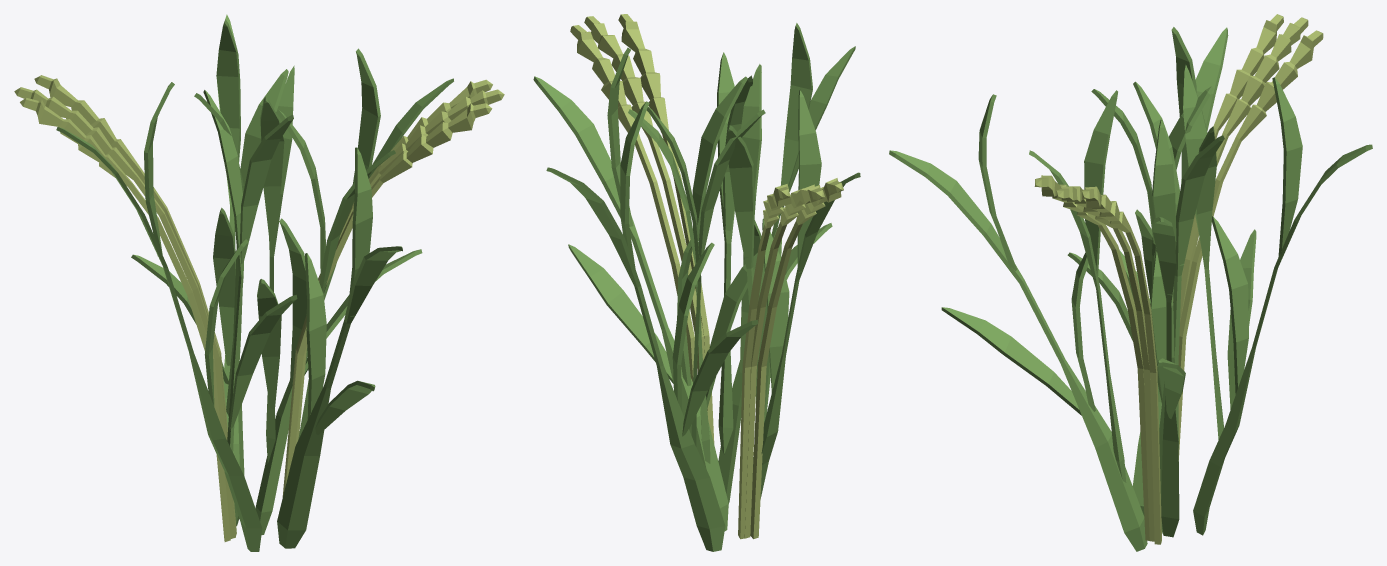
The model's file is Rice_4.gltf.
The picture shows the model from 3 angles, left to right: view 1: azimuth 30°, elevation 25°; view 2: azimuth 150°, elevation 25°; view 3: azimuth 270°, elevation 25°; orthographic projection.
Visible parts, largest first — view 1: Rice_4; view 2: Rice_4; view 3: Rice_4.
Part boxes in pixels (x1,y1,x2,y2): Rice_4: (14, 14, 504, 551); Rice_4: (533, 14, 860, 551); Rice_4: (889, 14, 1372, 551).
Size of the model in its own units: 0.7786 by 0.9535 by 0.8808.
